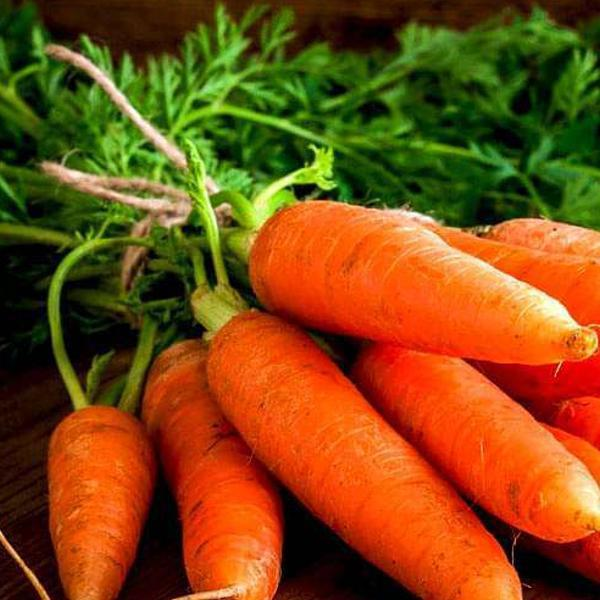carrot: (0, 20, 600, 600), (133, 289, 600, 600), (85, 144, 600, 370), (209, 313, 582, 600), (35, 186, 159, 600)
